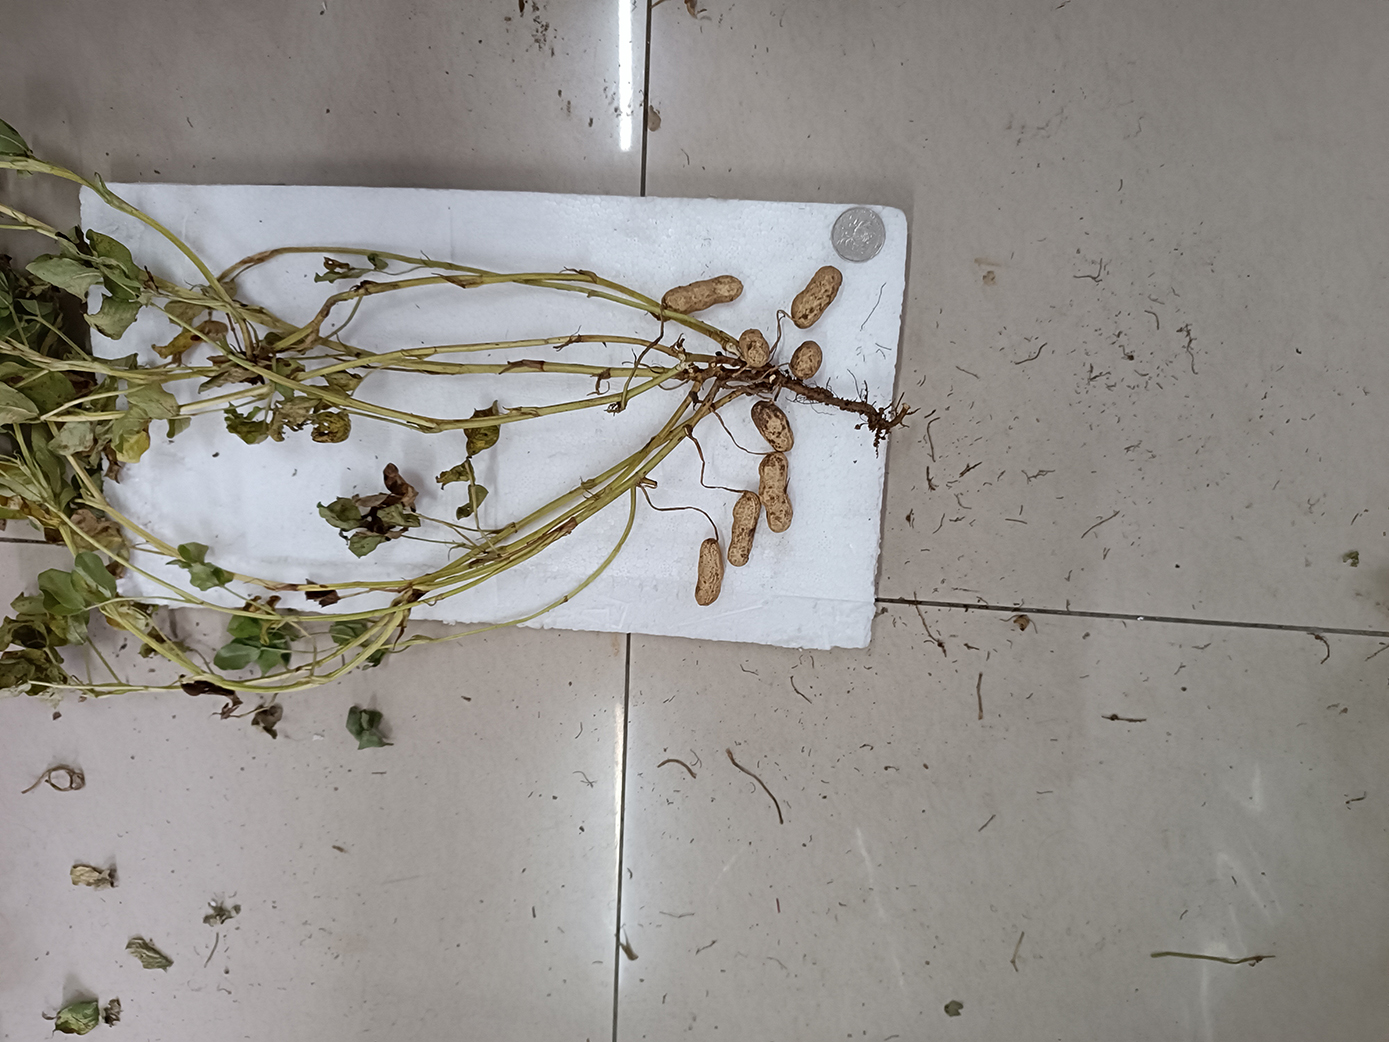h: (792, 266, 842, 329), (661, 275, 744, 312), (759, 452, 794, 532), (727, 489, 762, 568), (749, 400, 794, 453), (694, 539, 724, 607), (789, 341, 823, 380), (738, 329, 769, 368)
